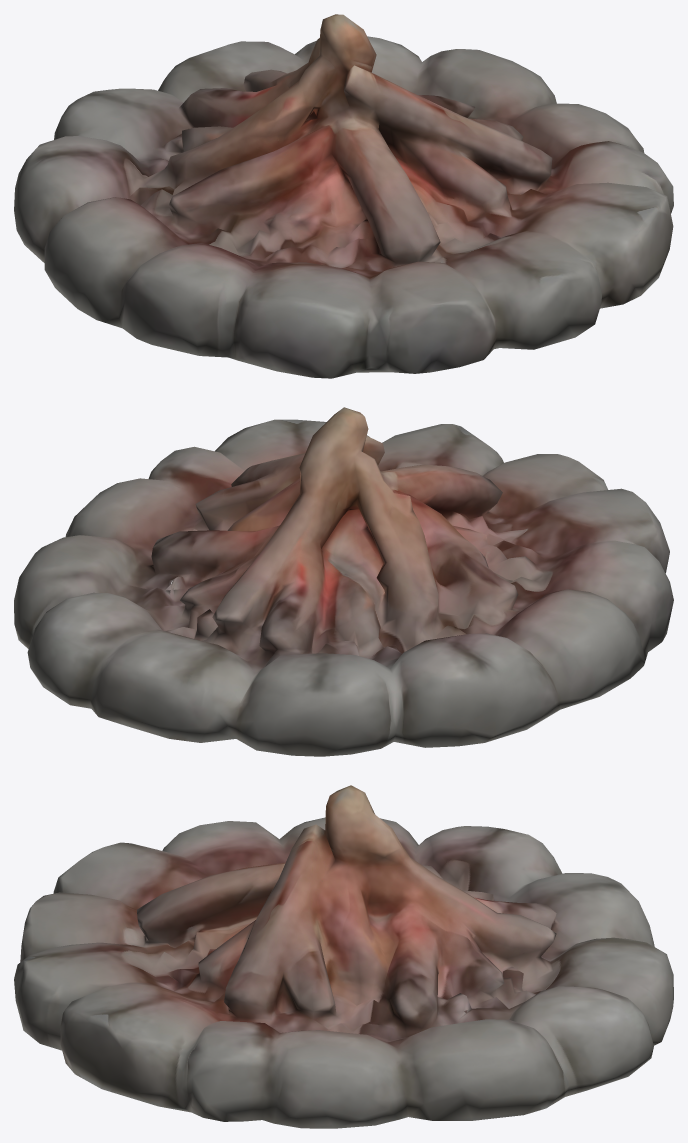
The model's file is hearth.glb.
The picture shows the model from 3 angles, top to bottom: view 1: azimuth 30°, elevation 25°; view 2: azimuth 150°, elevation 25°; view 3: azimuth 270°, elevation 25°; orthographic projection. The views are drawn at different scales.
Visible parts, largest first — view 1: tripo_node_554d34fe-5066-4935-8ffb-35443aaaa57d; view 2: tripo_node_554d34fe-5066-4935-8ffb-35443aaaa57d; view 3: tripo_node_554d34fe-5066-4935-8ffb-35443aaaa57d.
Part boxes in pixels (<box>): tripo_node_554d34fe-5066-4935-8ffb-35443aaaa57d: <box>14,14,673,378</box>; tripo_node_554d34fe-5066-4935-8ffb-35443aaaa57d: <box>14,407,673,756</box>; tripo_node_554d34fe-5066-4935-8ffb-35443aaaa57d: <box>14,785,673,1128</box>.
Bounding box in the file's own units: 0.9452 × 0.3531 × 1.
Materials: 1 (1 with a texture image).
